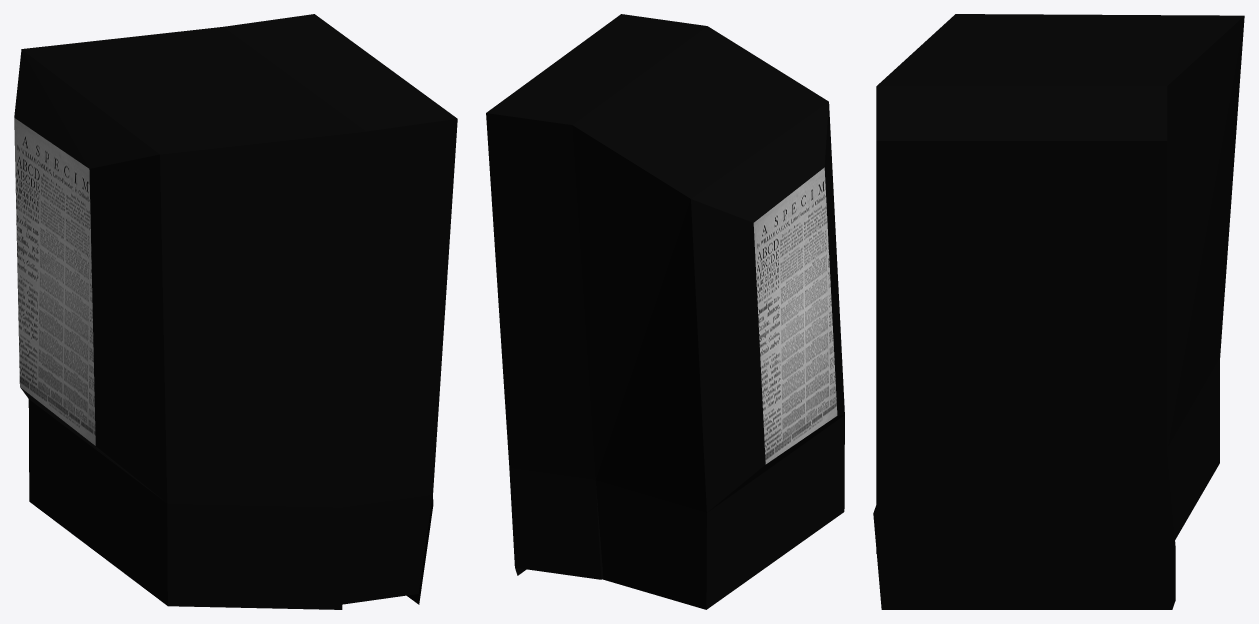
The model's file is Marvin Clarke_Magazine Box .fbx.
3 views of the same model, side by side, from view 1: azimuth 30°, elevation 25°; view 2: azimuth 150°, elevation 25°; view 3: azimuth 270°, elevation 25° (orthographic). The views are drawn at different scales.
Parts seen in each view (by area): view 1: pCube1; view 2: pCube1; view 3: pCube1.
Boxes of the visible parts, x1=… form: pCube1: x1=14, y1=14, x2=457, y2=609; pCube1: x1=486, y1=14, x2=844, y2=609; pCube1: x1=873, y1=14, x2=1244, y2=609.
Bounding box in the file's own units: 8.34 × 13.19 × 8.94.
